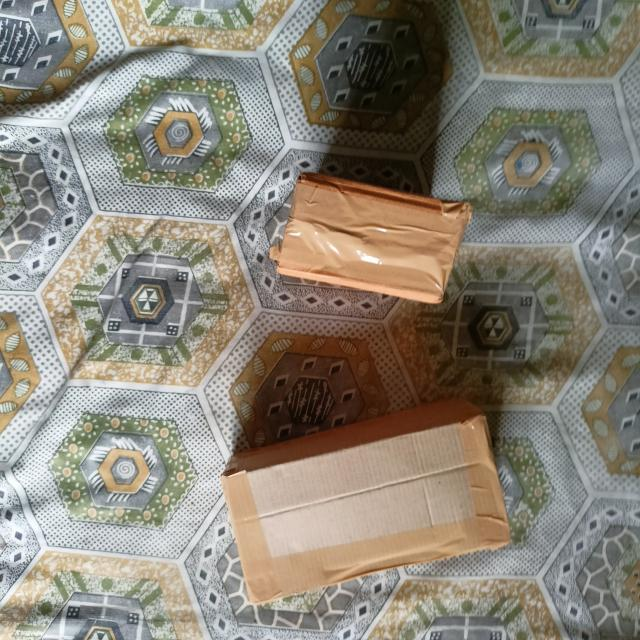box: (221, 419, 513, 605), (276, 174, 468, 302)
